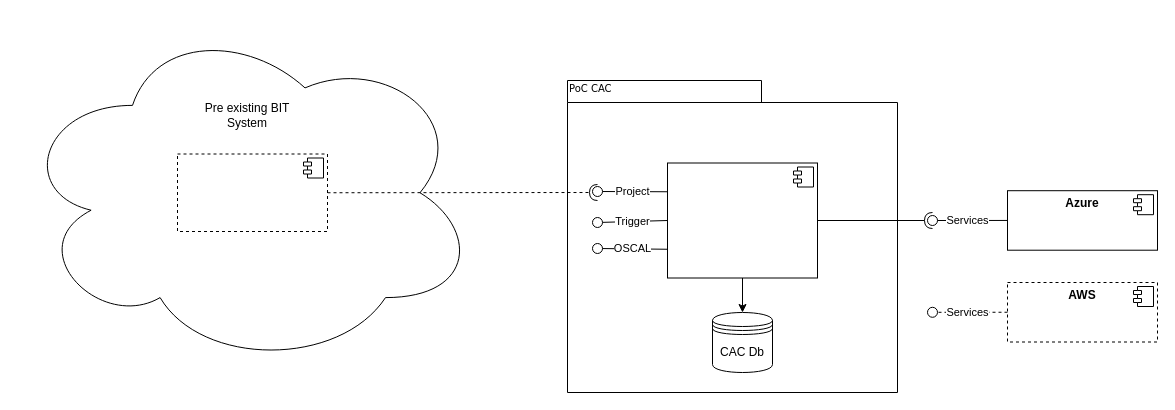
This 1175x410 diagram has some shape labels left out. The shapes that lost their labels are listed below. From the top down, each one's box as (x1, y1, x2, y2) in pixels, then its label:
(176, 153, 328, 232): Conncector
(666, 162, 818, 278): CAC Service
